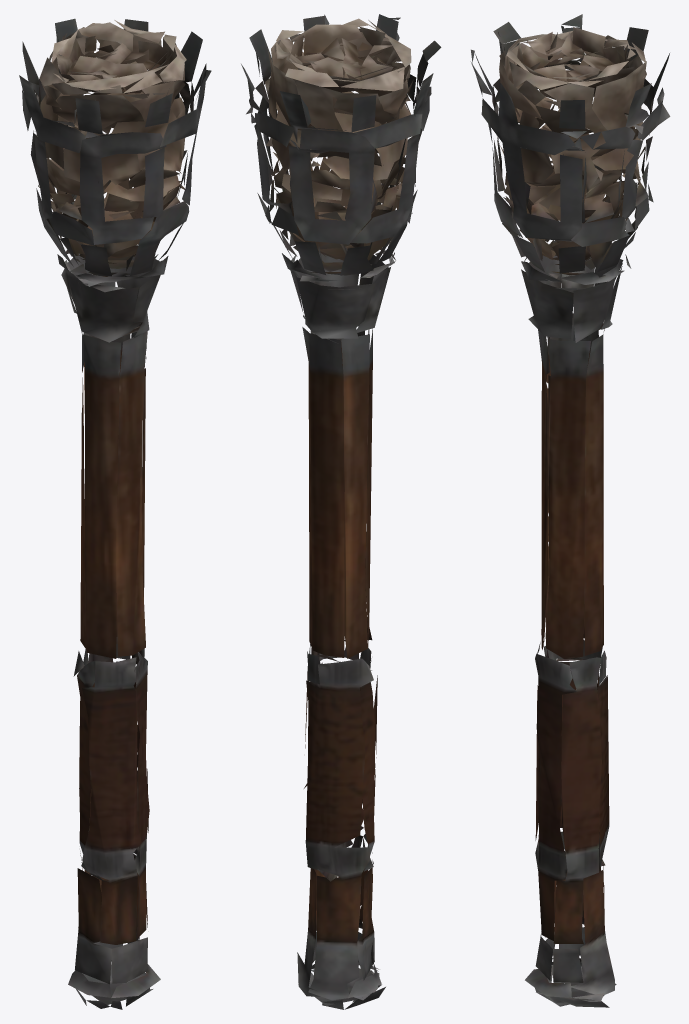
Rendered from pro_torch.glb.
3 renders of one model, left to right at view 1: azimuth 30°, elevation 25°; view 2: azimuth 150°, elevation 25°; view 3: azimuth 270°, elevation 25°, orthographic.
Parts seen in each view (by area): view 1: torch_model; view 2: torch_model; view 3: torch_model.
Part boxes in pixels (x1,y1,x2,y2): torch_model: (19, 18, 211, 1009); torch_model: (241, 14, 441, 1009); torch_model: (470, 14, 670, 1007).
Size of the model in its own units: 0.1276 by 0.6512 by 0.1265.
Materials: 1 (1 with a texture image).
